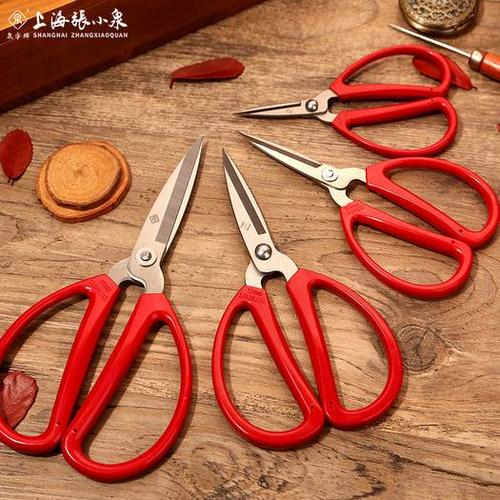scissor: (1, 139, 205, 483), (212, 148, 402, 447), (232, 129, 490, 302), (231, 42, 458, 157)
